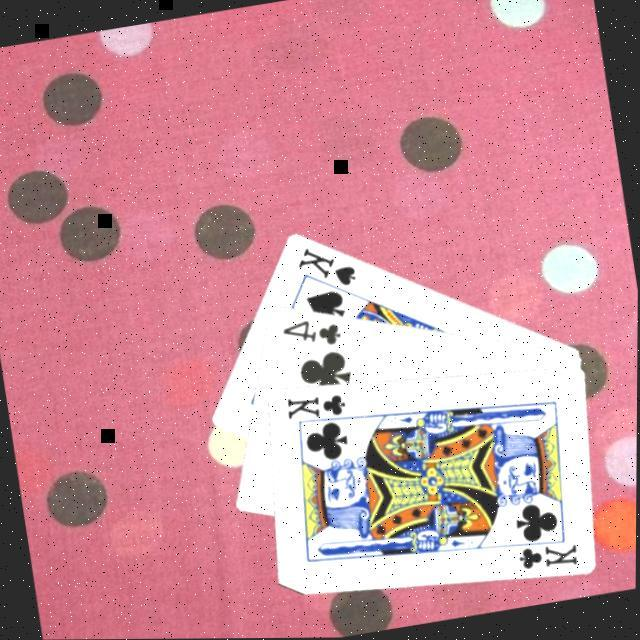4C: (277, 308, 346, 354)
KC: (282, 383, 357, 431), (509, 528, 583, 576)
KS: (293, 235, 362, 295)
